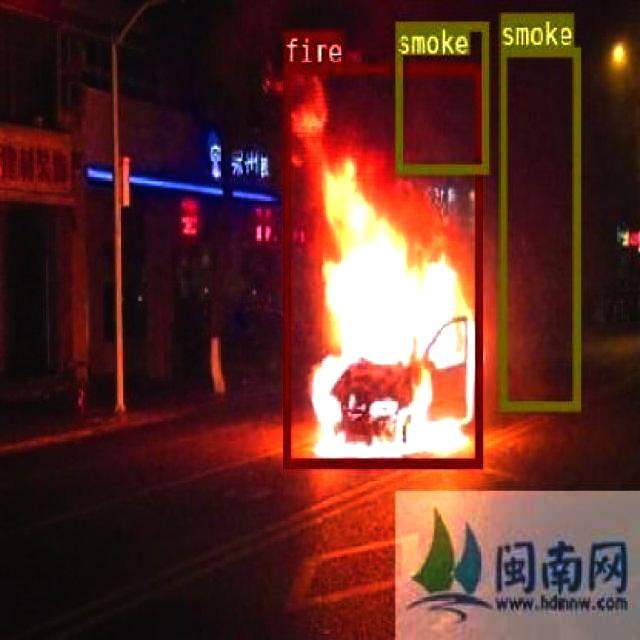fire: (283, 63, 482, 466)
smoke: (498, 45, 578, 410), (394, 19, 488, 172)
